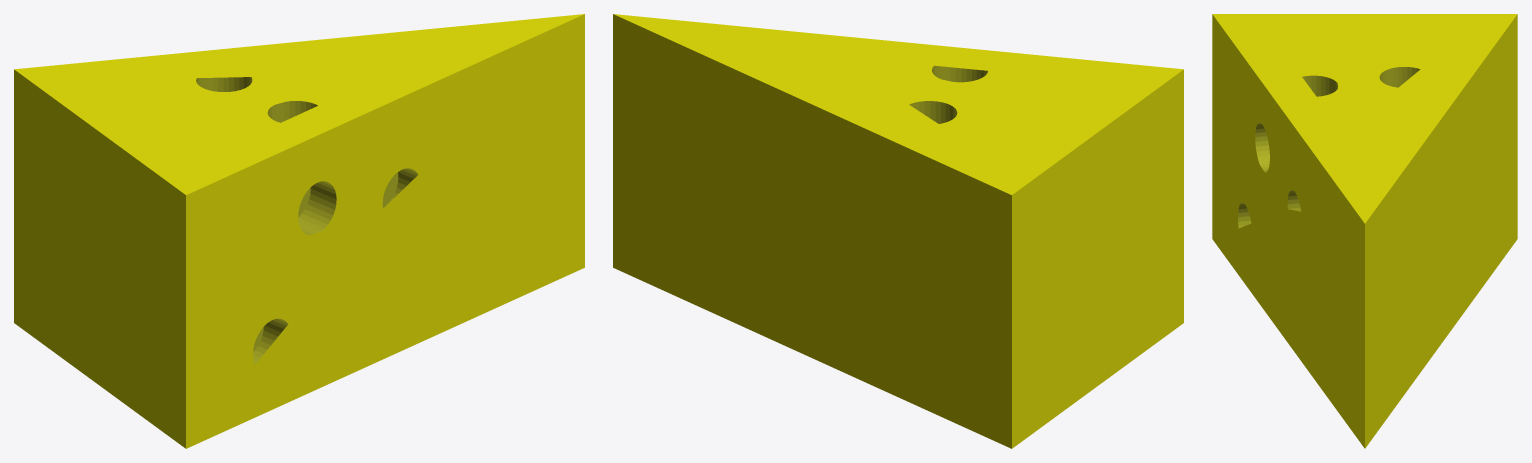
The model's file is cheese.fbx.
The picture shows the model from 3 angles, left to right: view 1: azimuth 30°, elevation 25°; view 2: azimuth 150°, elevation 25°; view 3: azimuth 270°, elevation 25°; orthographic projection. The views are drawn at different scales.
Parts seen in each view (by area): view 1: Cube; view 2: Cube; view 3: Cube.
Boxes of the visible parts, bbox=[...] form: Cube: bbox=[14, 14, 584, 448]; Cube: bbox=[613, 14, 1183, 448]; Cube: bbox=[1212, 14, 1517, 448].
Bounding box in the file's own units: 200 × 100 × 123.
